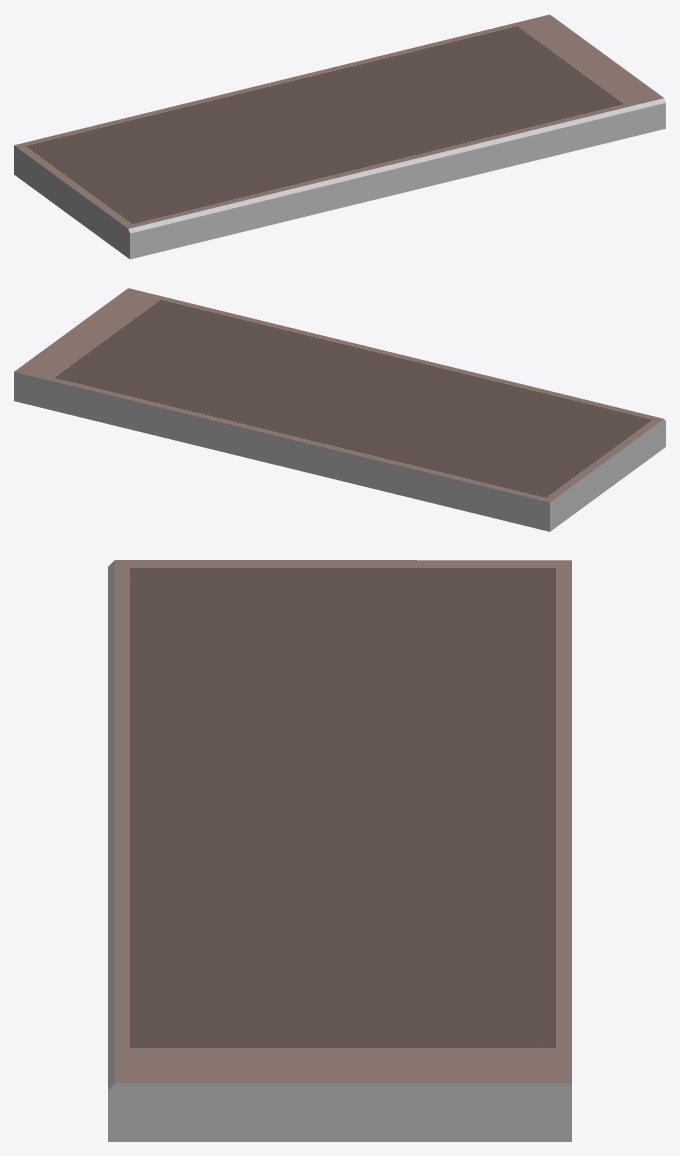
File: Footpath.fbx
3 renders of one model, top to bottom at view 1: azimuth 30°, elevation 25°; view 2: azimuth 150°, elevation 25°; view 3: azimuth 270°, elevation 25°, orthographic. The views are drawn at different scales.
Parts seen in each view (by area): view 1: pCube1; view 2: pCube1; view 3: pCube1.
Part boxes in pixels (<box>): pCube1: <box>14,14,665,259</box>; pCube1: <box>14,288,665,531</box>; pCube1: <box>108,560,571,1141</box>.
Bounding box in the file's own units: 24 × 1.26 × 9.
